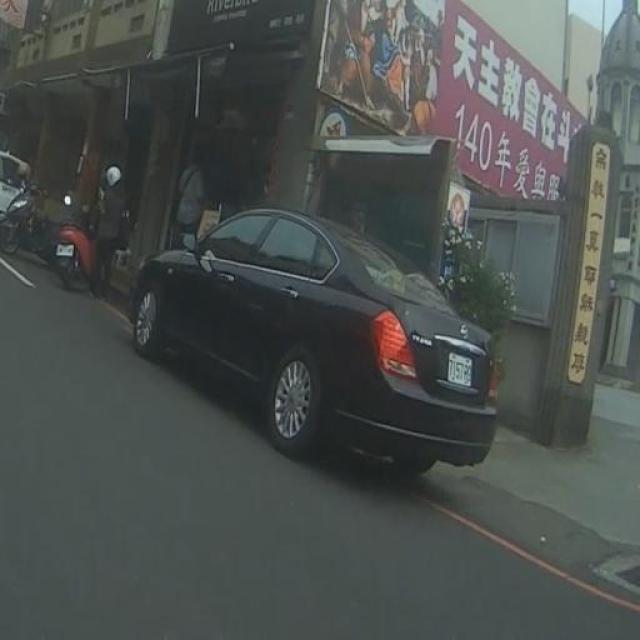illegalparking: (129, 209, 496, 472), (0, 185, 94, 288)
